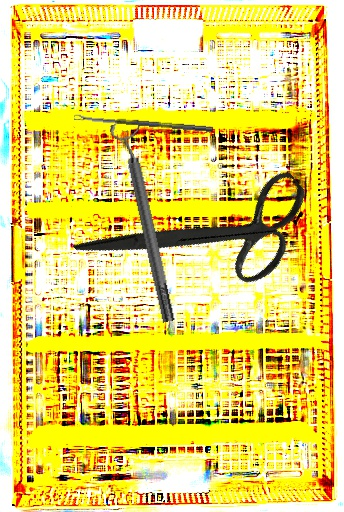Fixation Ring: (108, 118, 184, 326)
Iris Scissors: (72, 107, 331, 360)
Surgical Spoon: (74, 113, 213, 133)
